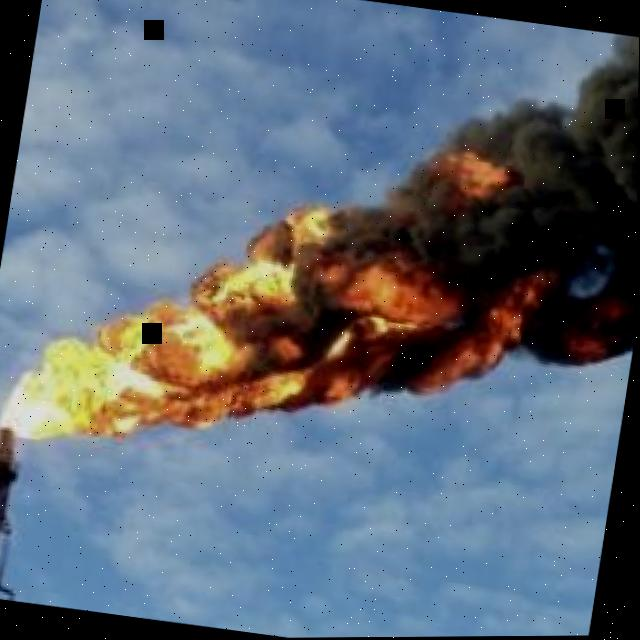fire: (0, 204, 454, 442), (418, 273, 557, 398), (438, 152, 504, 203)
smoke: (231, 35, 640, 401)
